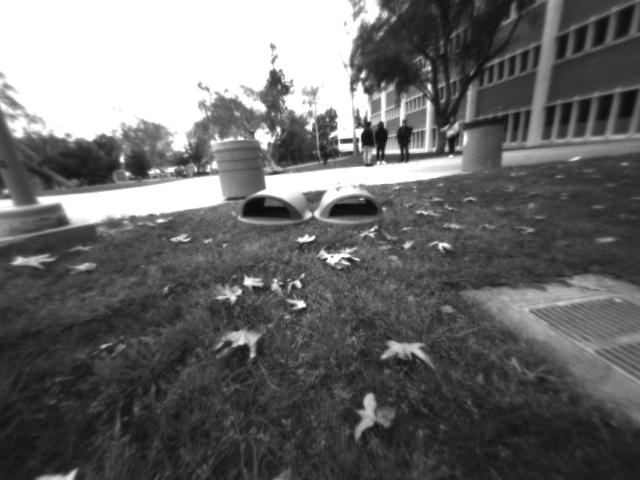trashcan: (210, 141, 271, 203), (456, 121, 508, 178)
